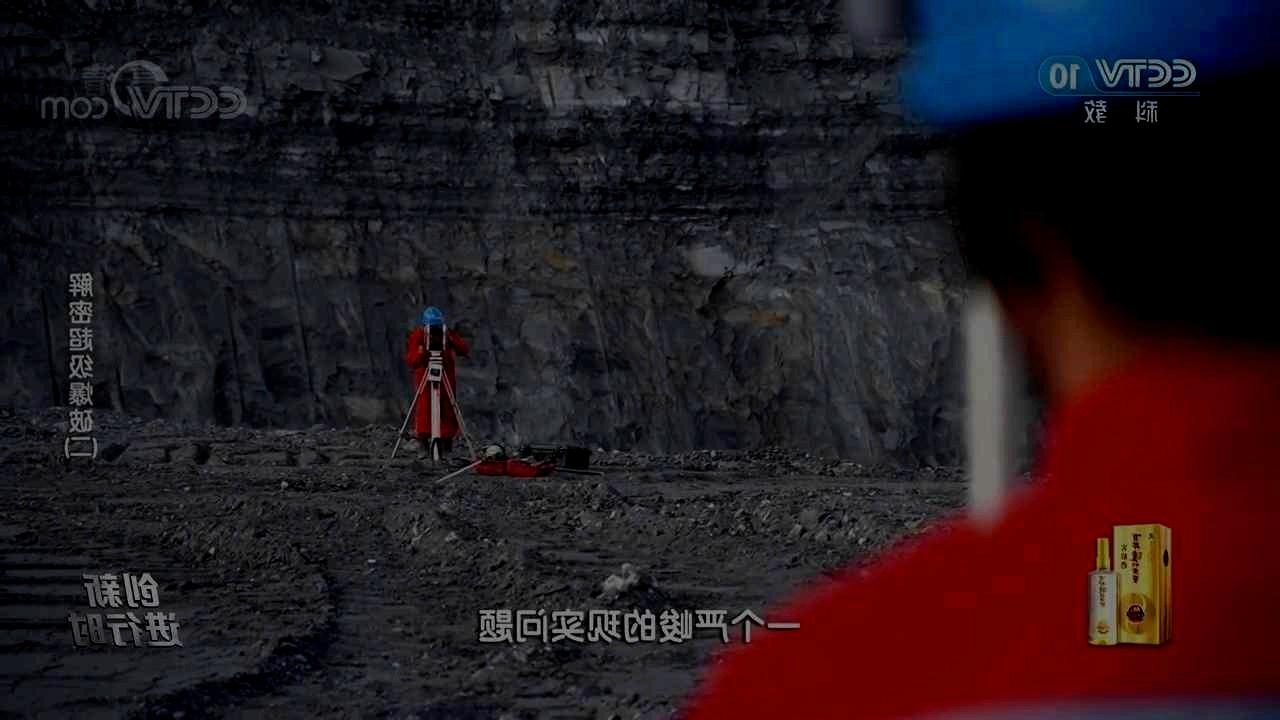helmet: (894, 1, 1278, 406), (421, 305, 444, 340)
